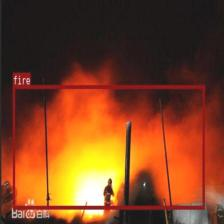fire: (13, 84, 204, 208)
